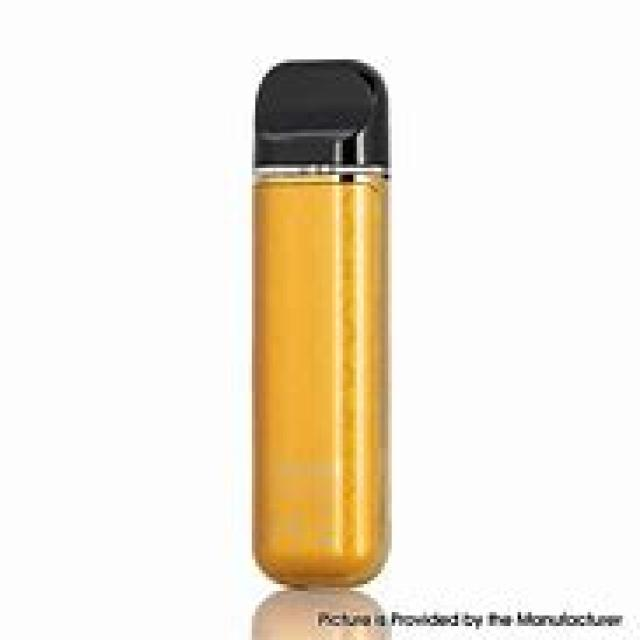Hazard: (248, 56, 392, 587)
